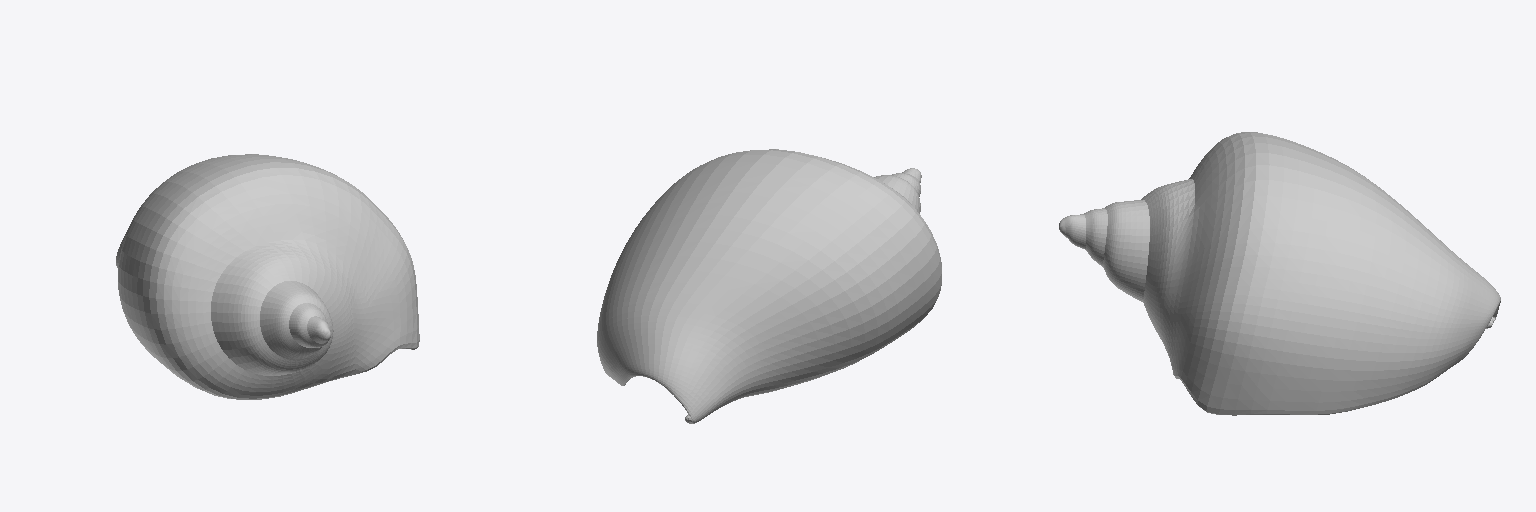
Rendered from shell.obj.
3 renders of one model, left to right at view 1: azimuth 30°, elevation 25°; view 2: azimuth 150°, elevation 25°; view 3: azimuth 270°, elevation 25°, orthographic.
Parts seen in each view (by area): view 1: shell; view 2: shell; view 3: shell.
Part boxes in pixels (x1,y1,x2,y2): shell: (116,154,419,399); shell: (597,149,941,423); shell: (1059,132,1500,415).
Bounding box in the file's own units: 0.2768 × 0.1861 × 0.3838.